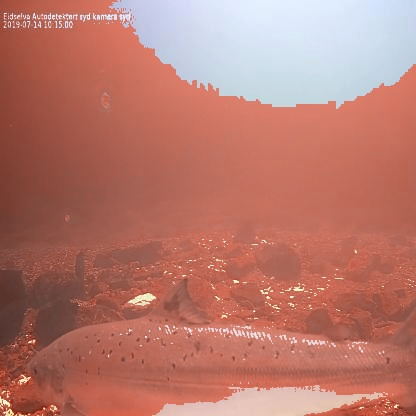salmon: (23, 271, 416, 415)
